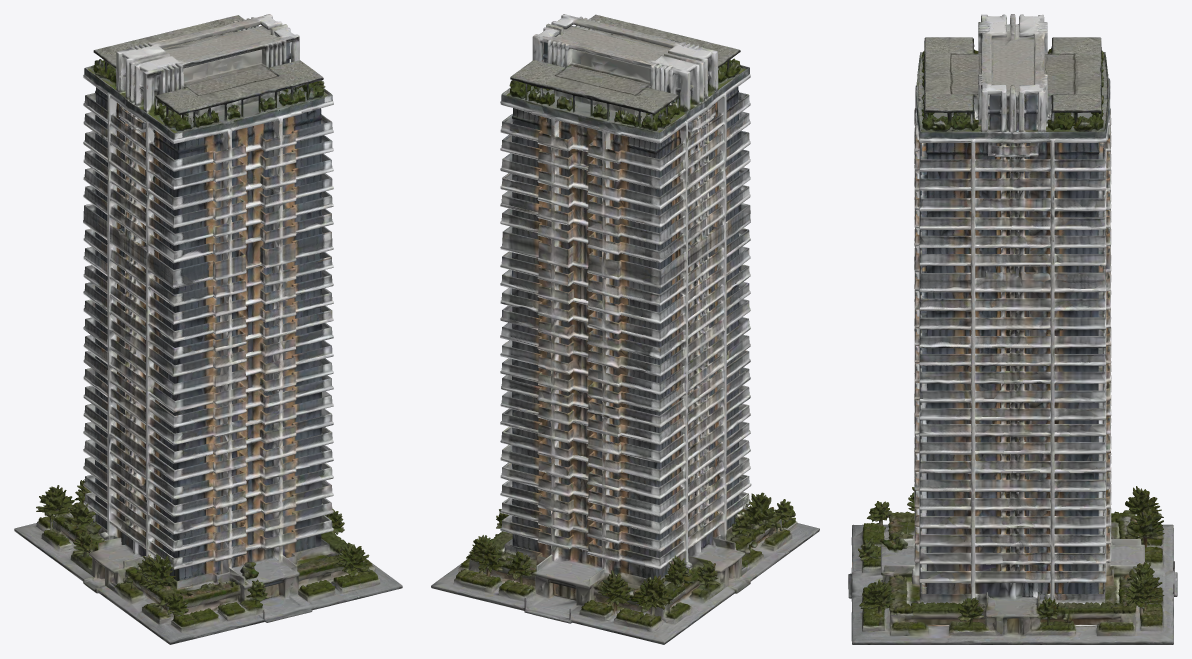
File: building-assembly.glb
The picture shows the model from 3 angles, left to right: view 1: azimuth 30°, elevation 25°; view 2: azimuth 150°, elevation 25°; view 3: azimuth 270°, elevation 25°; orthographic projection. The views are drawn at different scales.
Visible parts, largest first — view 1: stage_1_lower_third, stage_3_upper_third, stage_2_middle_third, stage_0_ground; view 2: stage_3_upper_third, stage_1_lower_third, stage_2_middle_third, stage_0_ground; view 3: stage_1_lower_third, stage_3_upper_third, stage_2_middle_third, stage_0_ground.
Part boxes in pixels (x1,y1,x2,y2): stage_1_lower_third: (36,368,377,623); stage_3_upper_third: (83,14,333,263); stage_2_middle_third: (83,203,333,427); stage_0_ground: (14,516,402,644); stage_3_upper_third: (500,14,750,262); stage_1_lower_third: (456,367,795,623); stage_2_middle_third: (500,203,750,427); stage_0_ground: (431,518,819,644); stage_1_lower_third: (858,395,1174,627); stage_3_upper_third: (914,14,1111,267); stage_2_middle_third: (914,238,1111,440); stage_0_ground: (848,524,1177,644).
Bounding box in the file's own units: 0.9084 × 1.9 × 1.07.
1 material, 1 textured.
